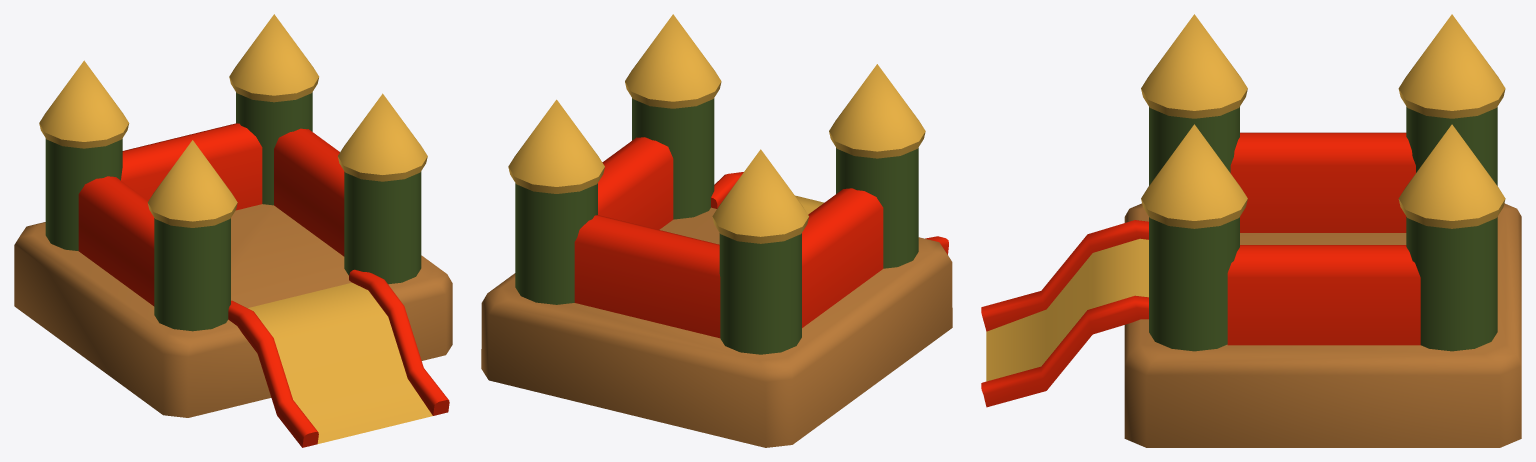
Rendered from Atraction_3.fbx.
3 renders of one model, left to right at view 1: azimuth 30°, elevation 25°; view 2: azimuth 150°, elevation 25°; view 3: azimuth 270°, elevation 25°, orthographic. The views are drawn at different scales.
Parts seen in each view (by area): view 1: Atraction_3; view 2: Atraction_3; view 3: Atraction_3.
Part boxes in pixels (<box>): Atraction_3: <box>14,14,452,447</box>; Atraction_3: <box>481,14,952,447</box>; Atraction_3: <box>981,14,1521,447</box>.
Size of the model in its own units: 383 by 315 by 521.
